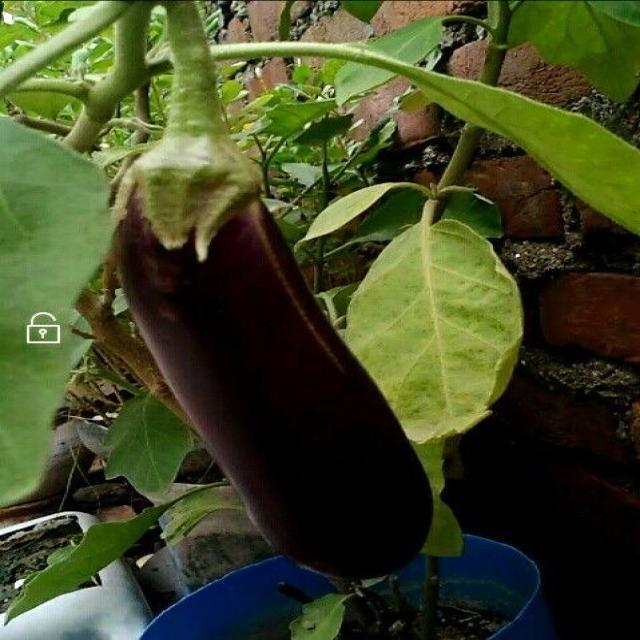Eggplant: (102, 14, 435, 583)
